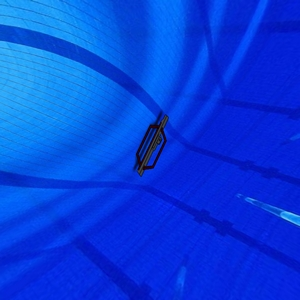submarine: (131, 110, 178, 187)
